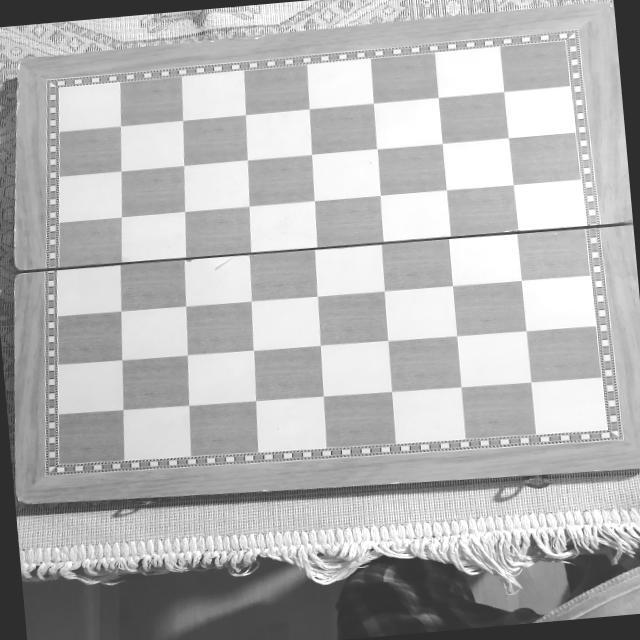corners: (8, 489, 30, 511), (10, 49, 31, 66), (596, 0, 616, 17)
